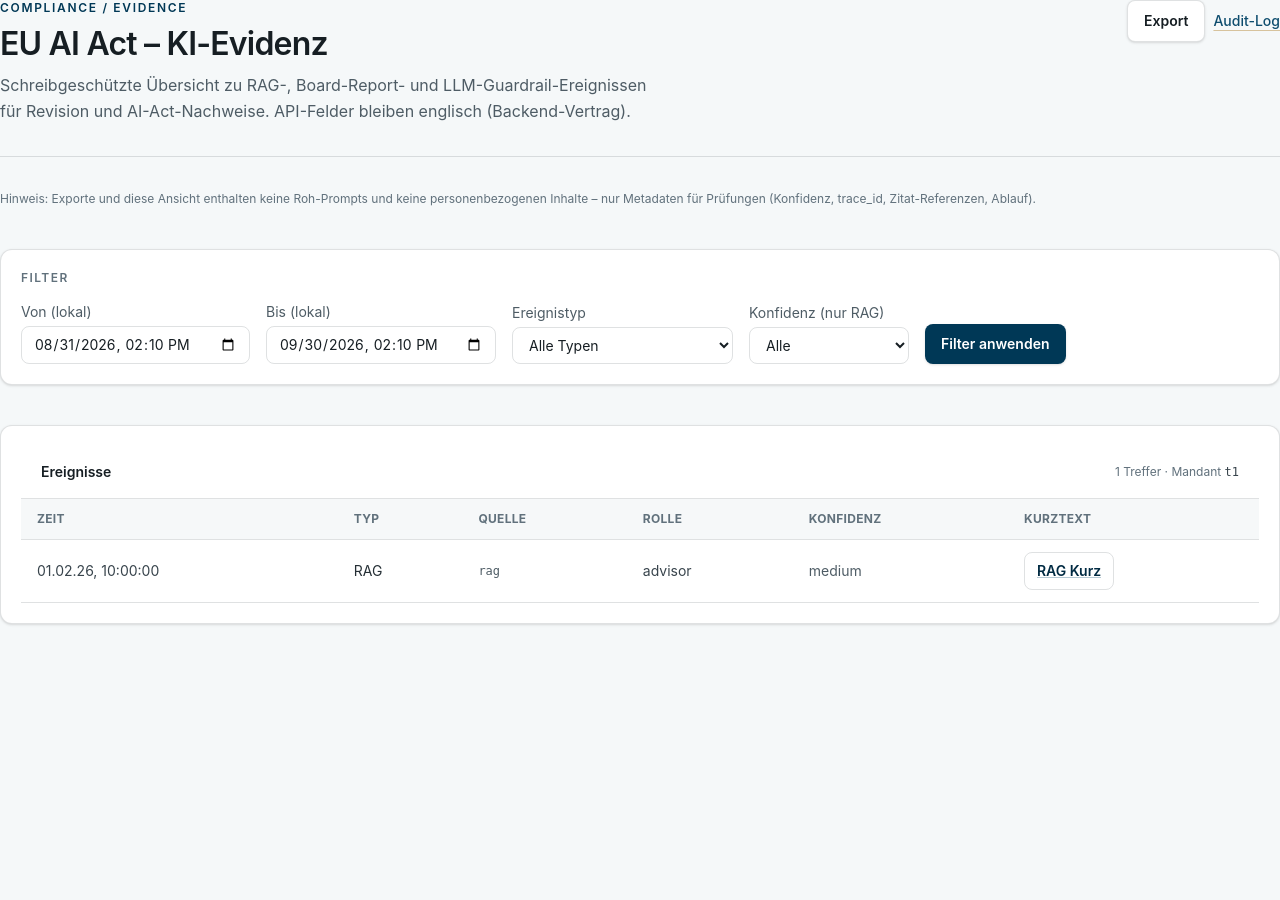
Scenario: AiActEvidencePageClient › detail drawer shows RAG-specific fields
Expected: the text "RAG Kurz" is shown, [1037,560,1101,580]
Click the button with aria-label "Details zu audit:rag-1": [1069, 570] box [1024,552,1114,590]
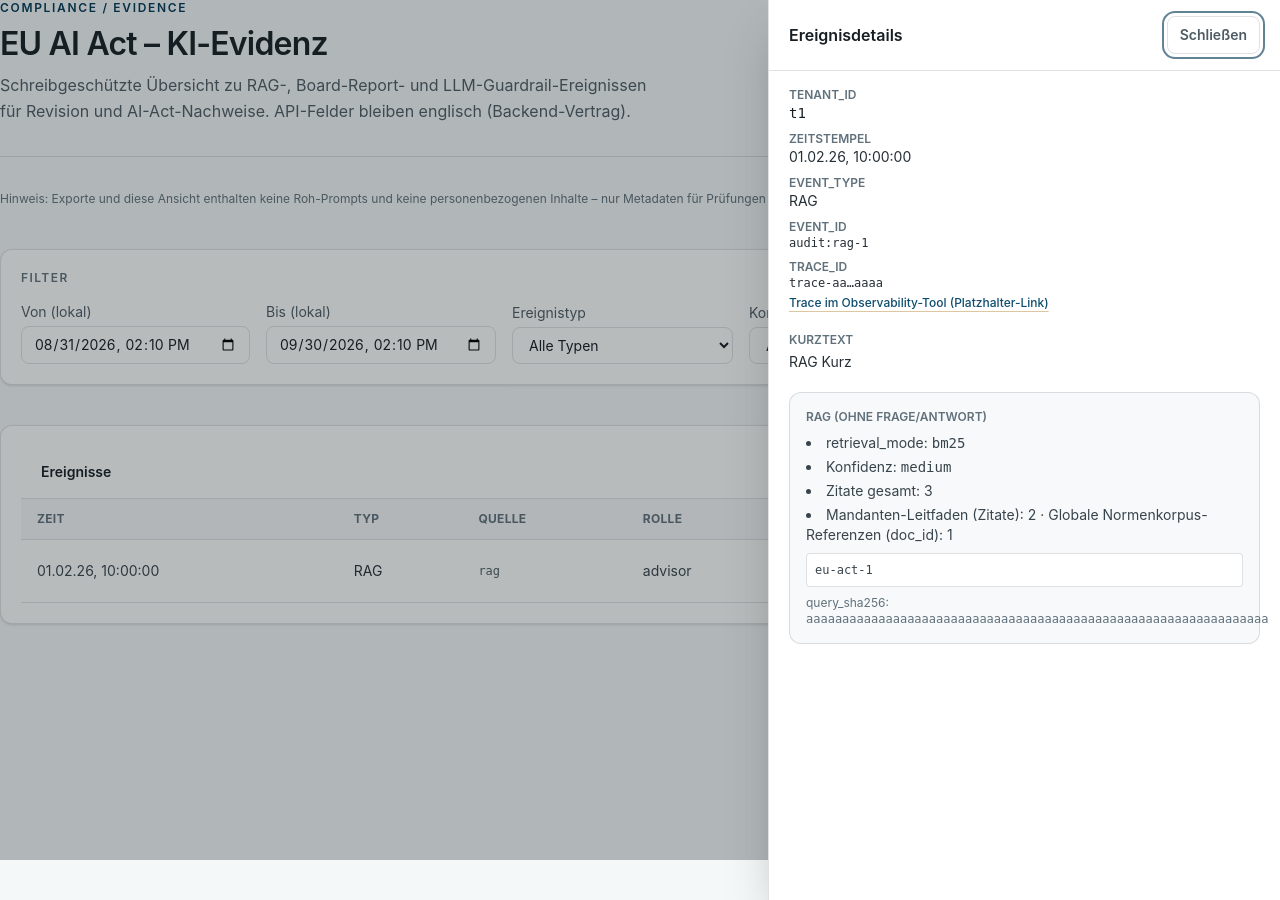
Expected: the dialog is shown, [768,0,1279,899]
Expected: the list item "Mandanten-Leitfaden" is shown, [826,506,1028,523]
Expected: the list item "eu-act-1" is shown, [815,563,873,577]
